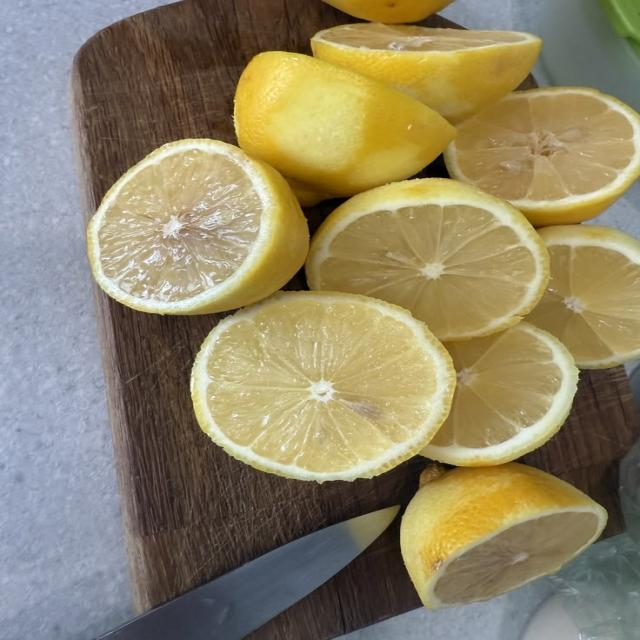lemon: (192, 292, 454, 481), (306, 179, 548, 340), (87, 139, 308, 314), (235, 52, 455, 196), (401, 463, 606, 608), (445, 88, 639, 226), (312, 23, 540, 122), (422, 322, 578, 466), (527, 225, 639, 368), (325, 0, 453, 23), (287, 178, 333, 206)
